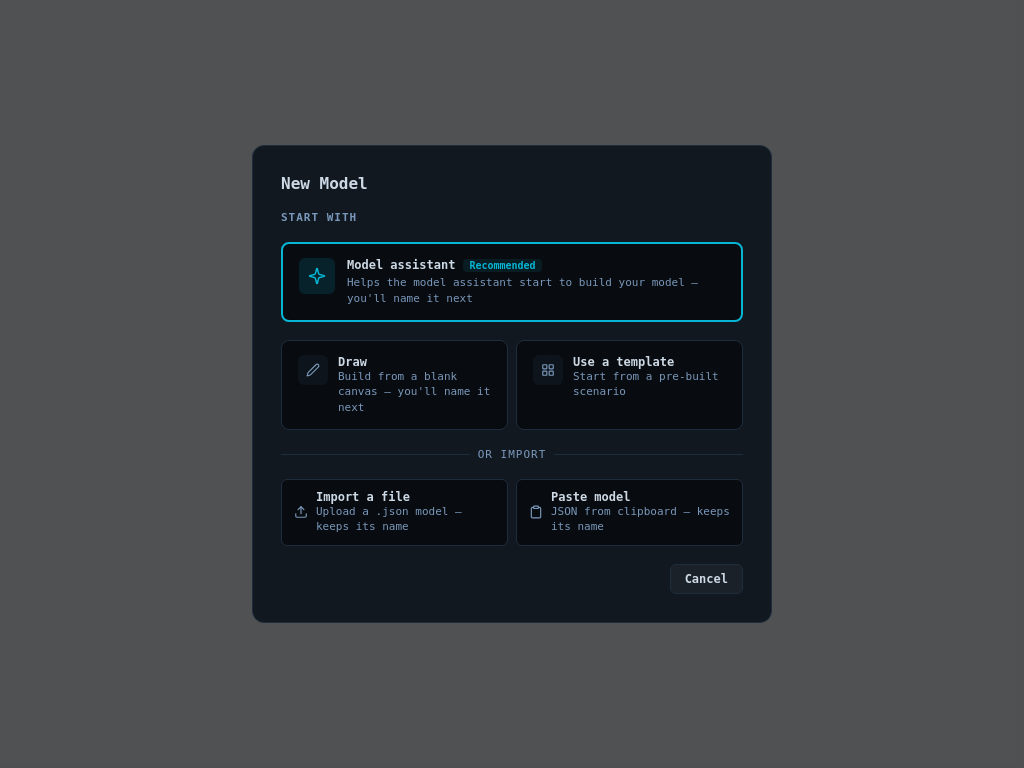
Scenario: NewModelModal › switches to paste mode immediately with no name prompt
The image size is (1024, 768).
Step 1. Click the button "Paste model JSON from clipboard — keeps its name" → (630, 512), box [516,479,743,546]
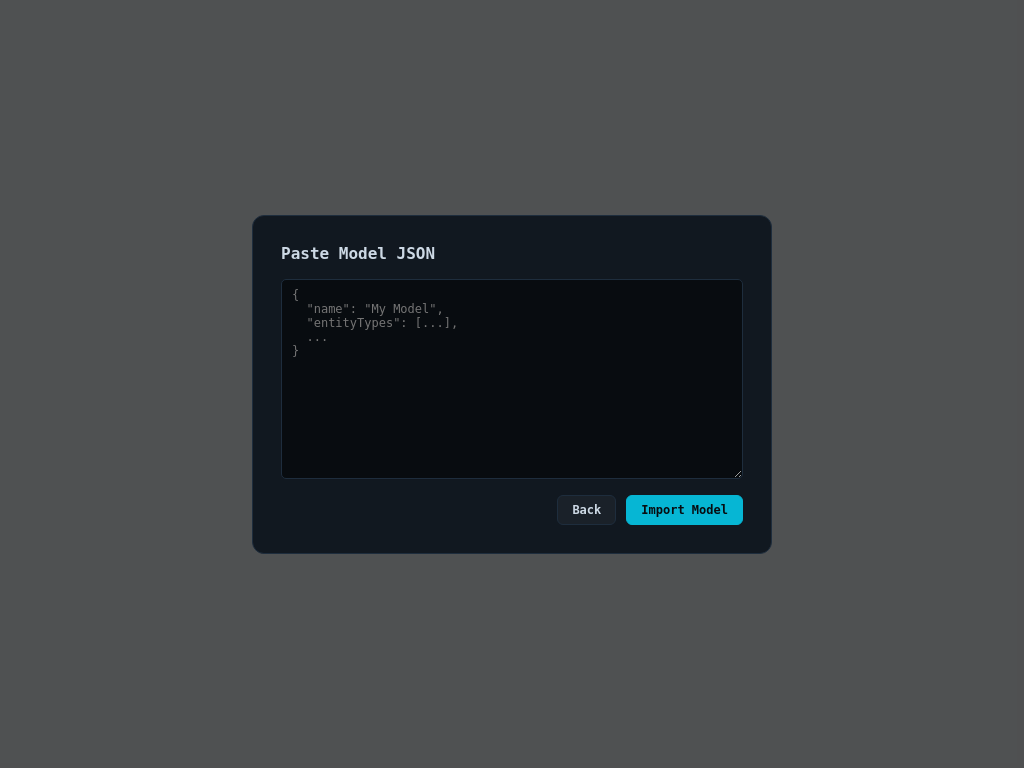
Expected: the dialog labelled "Paste Model JSON Back Import Model" is shown, [252,214,772,554]
Expected: the text "Paste Model JSON" is shown, [281,244,435,262]
